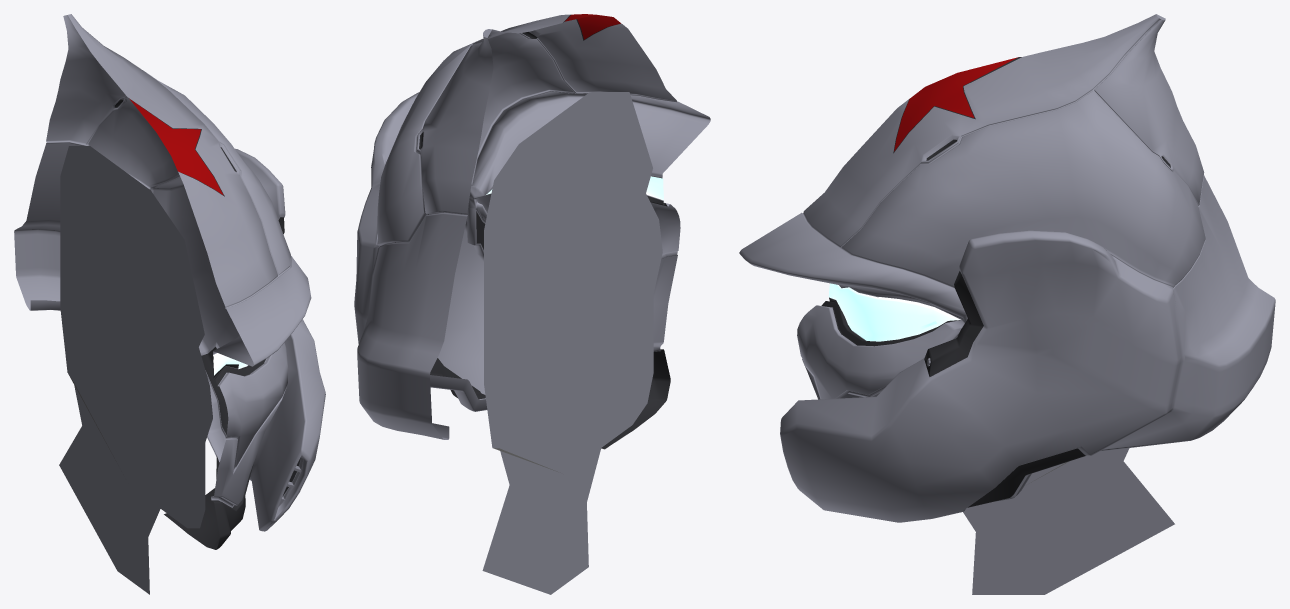
Rendered from robot2back-compressed.glb.
3 renders of one model, left to right at view 1: azimuth 30°, elevation 25°; view 2: azimuth 150°, elevation 25°; view 3: azimuth 270°, elevation 25°, orthographic. The views are drawn at different scales.
Visible parts, largest first — view 1: Object_6.001; view 2: Object_6.001; view 3: Object_6.001.
Part boxes in pixels (box(x1,y1,x2,y2)): Object_6.001: box(14, 14, 325, 594); Object_6.001: box(354, 14, 710, 594); Object_6.001: box(739, 14, 1275, 594).
Size of the model in its own units: 0.3806 by 1.38 by 1.16.
